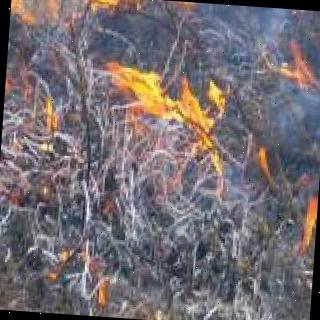fire: (105, 37, 240, 181), (0, 0, 21, 143), (133, 0, 281, 10)
